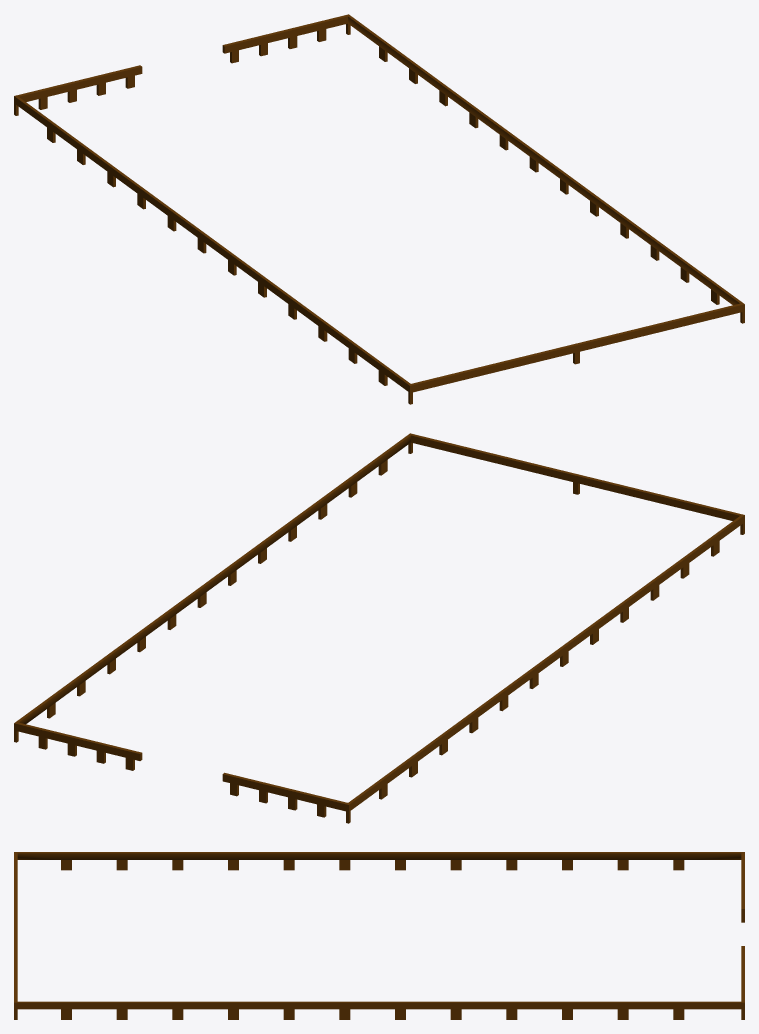
Rendered from Fence.FBX.
3 views of the same model, one above another, from view 1: azimuth 30°, elevation 25°; view 2: azimuth 150°, elevation 25°; view 3: azimuth 270°, elevation 25° (orthographic). The views are drawn at different scales.
Parts seen in each view (by area): view 1: Fence; view 2: Fence; view 3: Fence.
Boxes of the visible parts, box(x1,y1,x2,y2) form: Fence: box(14, 14, 744, 404); Fence: box(14, 433, 744, 823); Fence: box(14, 852, 744, 1019).
Size of the model in its own units: 12.2 by 0.65 by 25.
